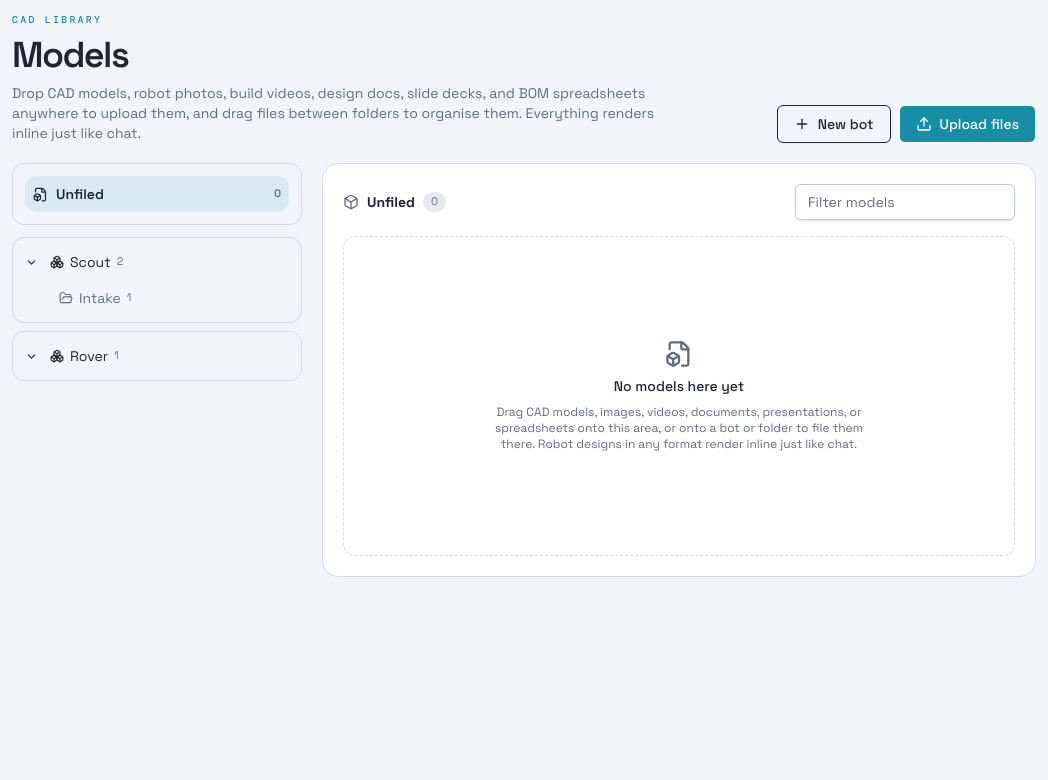
Test: CAD README preview › switches between bot-root READMEs without selecting a folder README
Click the button with test id "cad-bot-bot-1" at (132, 262), box [46,246,218,278]
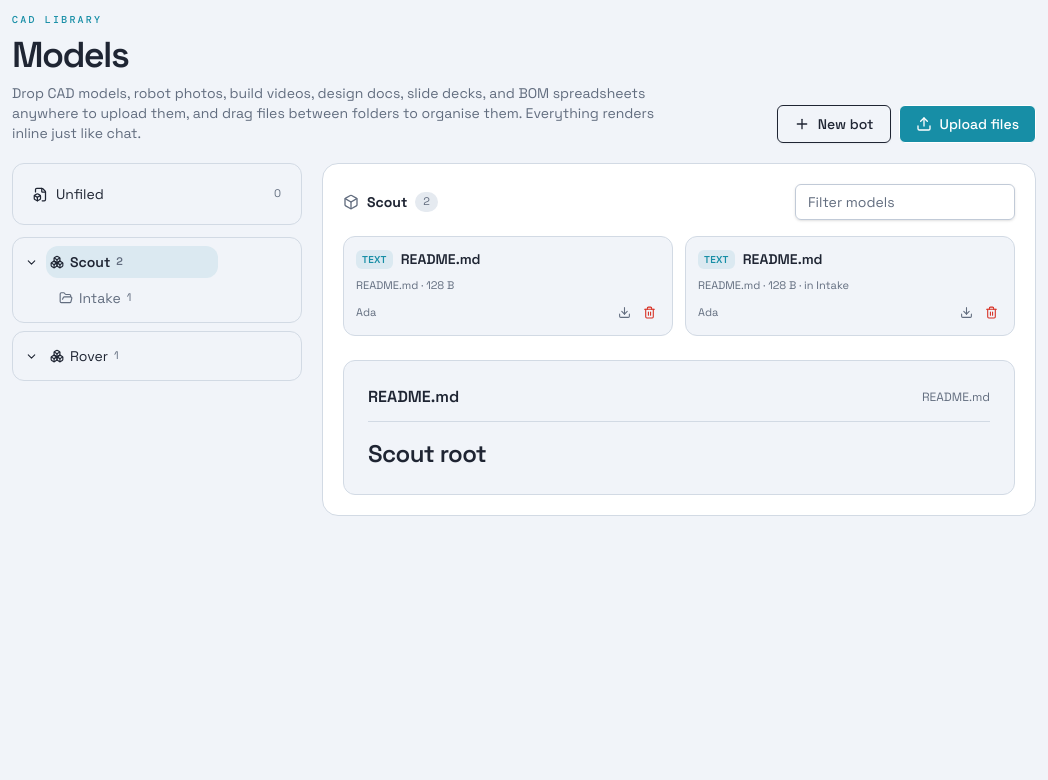
Now the heading "Scout root" is shown, box [368,438,486,468]
Click the button with test id "cad-bot-bot-2" at (132, 356), box [46,340,218,372]
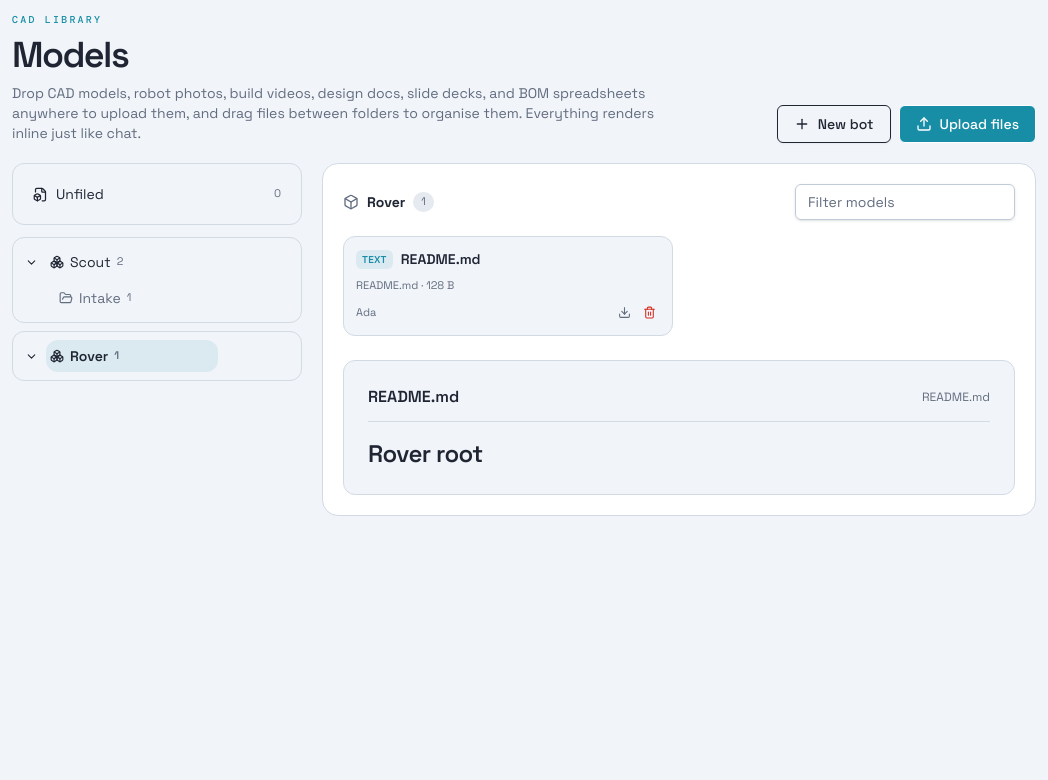
Now the heading "Rover root" is shown, box [368,438,483,468]
